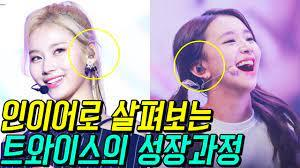earphone: (194, 61, 207, 73), (86, 48, 96, 59)
